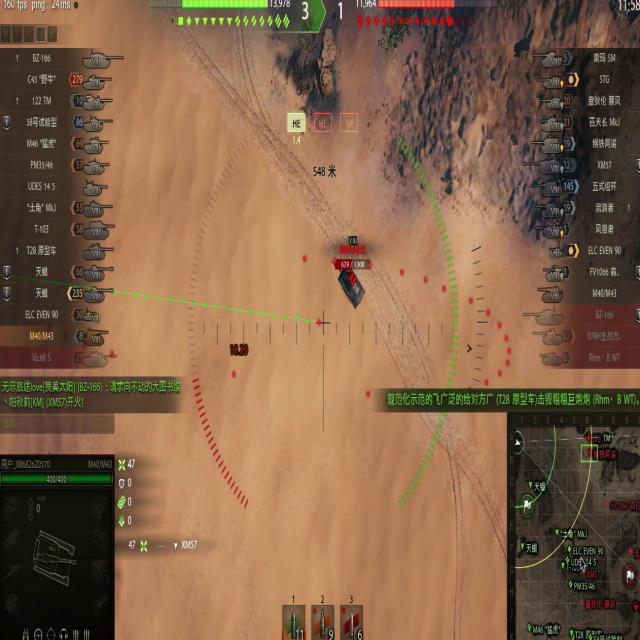tank: (331, 258, 376, 307)
